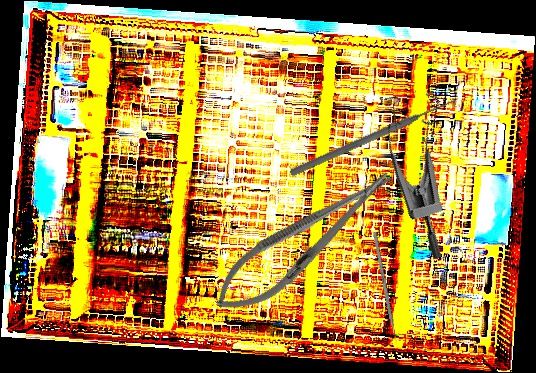Needle Holder: (201, 155, 407, 328)
Pusher: (288, 94, 460, 179), (372, 231, 400, 351)
Speculum: (355, 76, 505, 261)
